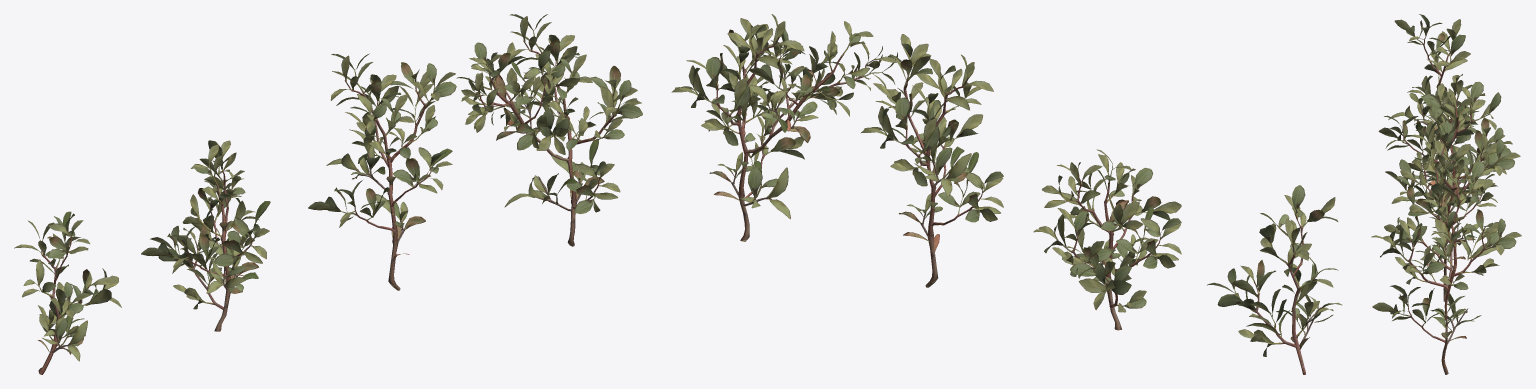
Rendered from shrub_04.glb.
3 renders of one model, left to right at view 1: azimuth 30°, elevation 25°; view 2: azimuth 150°, elevation 25°; view 3: azimuth 270°, elevation 25°, orthographic. The views are drawn at different scales.
Visible parts, largest first — view 1: shrub_04; view 2: shrub_04; view 3: shrub_04.
Boxes of the visible parts, x1,y1,x2,y2 form: shrub_04: [14, 14, 642, 374]; shrub_04: [671, 14, 1341, 374]; shrub_04: [1371, 14, 1521, 374].
Size of the model in its own units: 0.5837 by 0.2192 by 0.146.
Materials: 1 (1 with a texture image).
